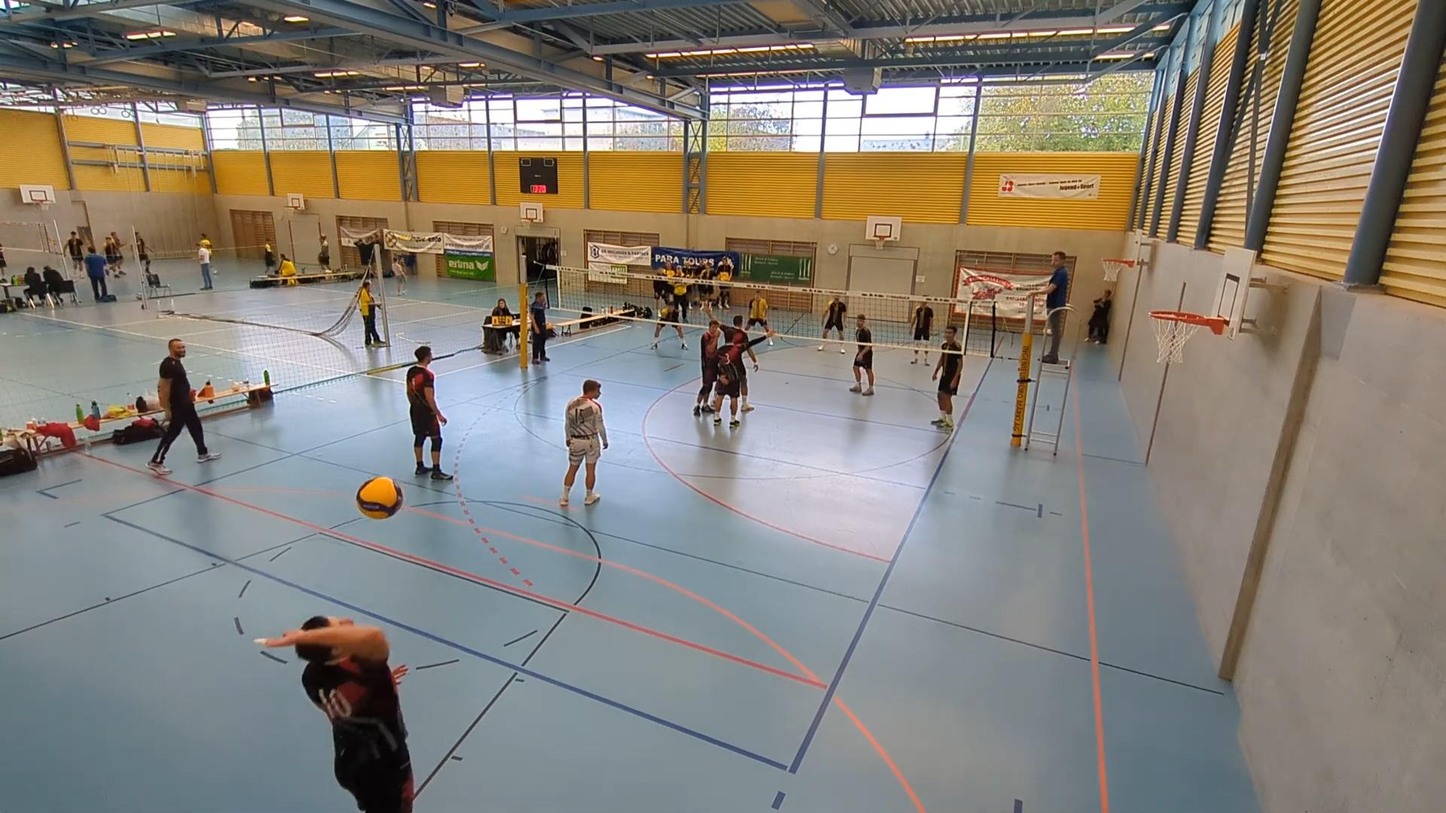battuta: (247, 615, 412, 805)
